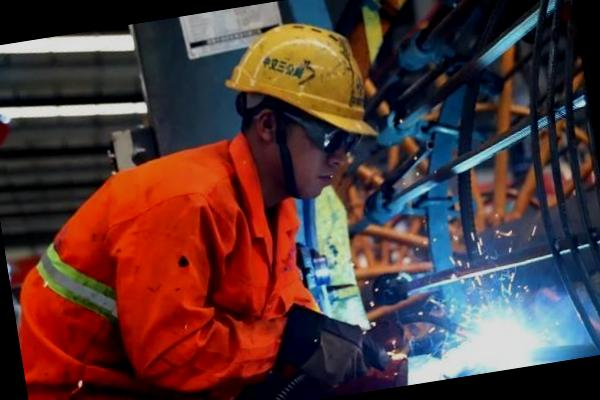helmet: (210, 6, 382, 162)
person: (0, 6, 419, 400)
